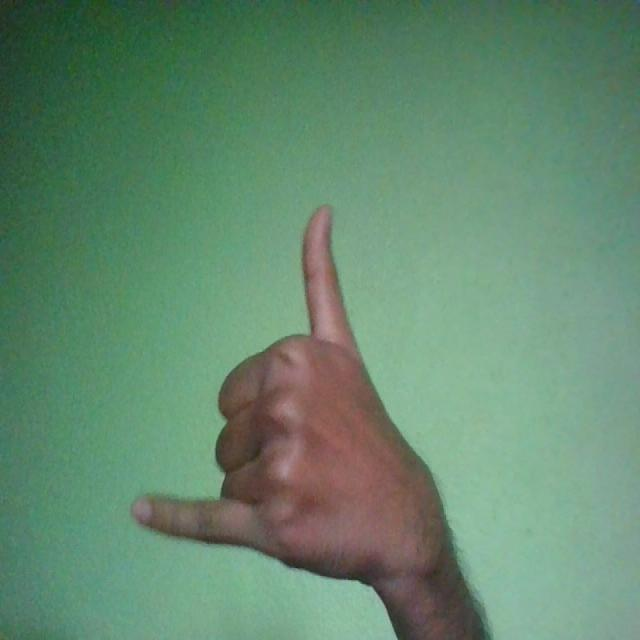Call Me: (130, 206, 452, 588)
